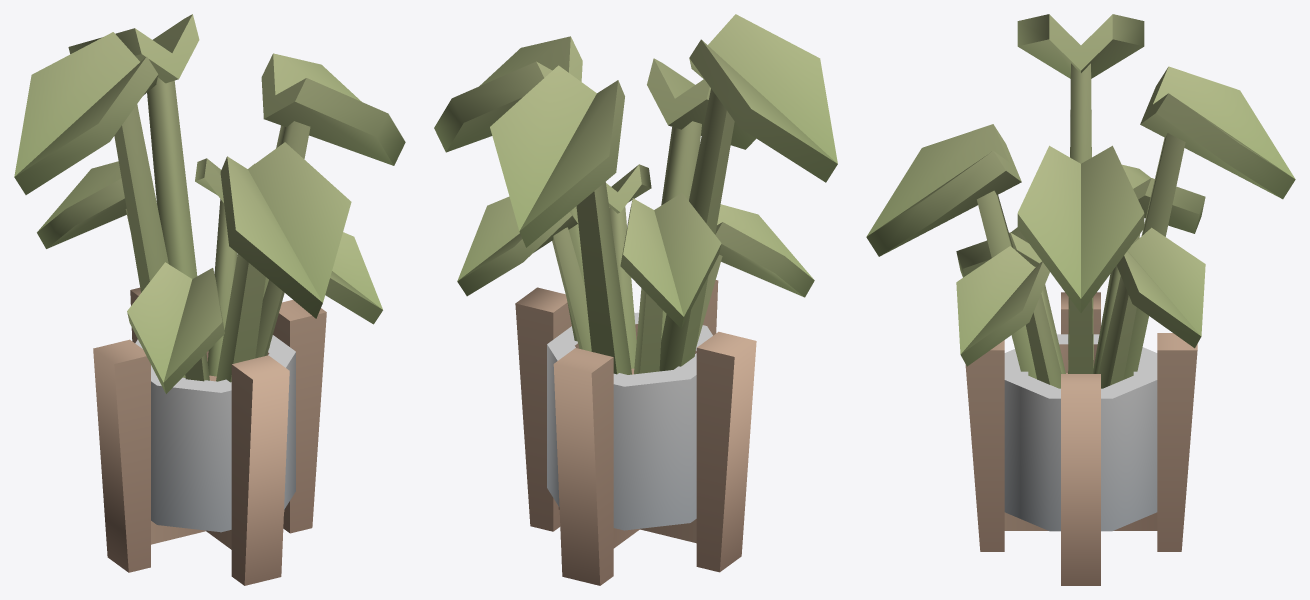
The model's file is plant-leaves-standing.glb.
3 views of the same model, side by side, from view 1: azimuth 30°, elevation 25°; view 2: azimuth 150°, elevation 25°; view 3: azimuth 270°, elevation 25° (orthographic). The views are drawn at different scales.
Parts seen in each view (by area): view 1: plant-leaves-standing; view 2: plant-leaves-standing; view 3: plant-leaves-standing.
Part boxes in pixels (bbox=[...]): plant-leaves-standing: bbox=[14, 14, 405, 585]; plant-leaves-standing: bbox=[434, 14, 837, 585]; plant-leaves-standing: bbox=[866, 14, 1295, 585].
Size of the model in its own units: 0.6763 by 0.8556 by 0.6763.
